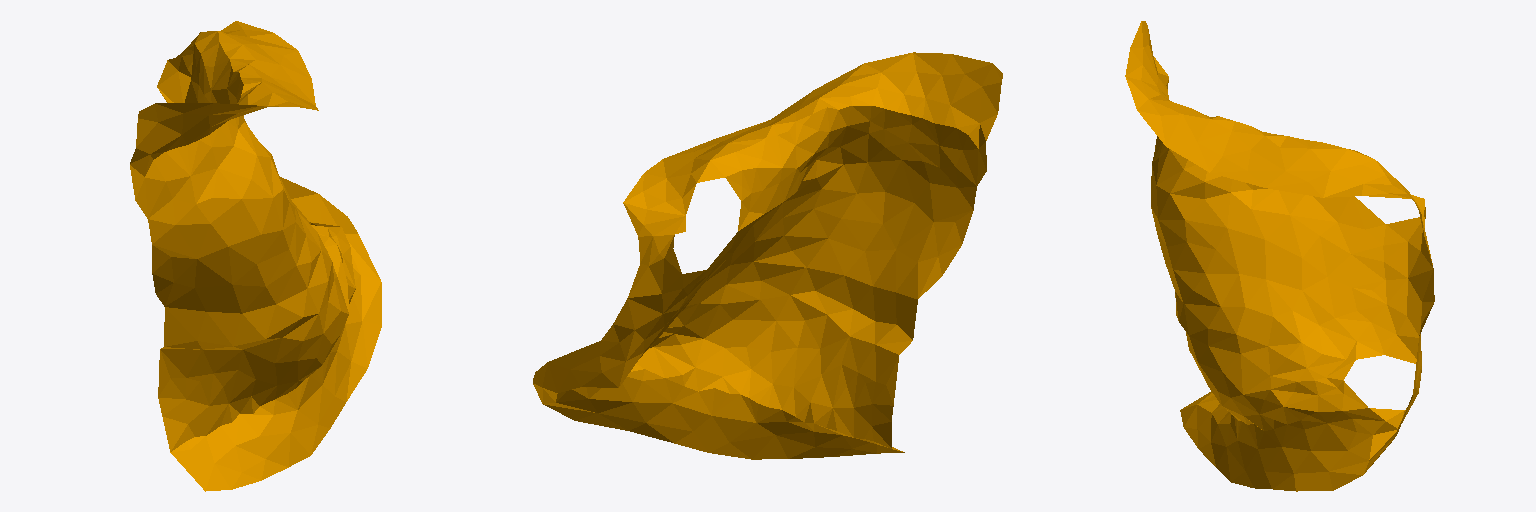
robot.urdf — init:
<?xml version='1.0' encoding='utf-8'?>
<robot name="init">
<link name="link_0"><inertial><mass value="1.0" /><origin rpy="0 0 0" xyz="0.000000 0.000000 0.000000" /><inertia ixx="1.0" ixy="0.0" ixz="0.0" iyy="1.0" iyz="0.0" izz="1.0" /></inertial><visual><origin rpy="0 0 0" xyz="0.000000 0.000000 0.000000" /><geometry><mesh filename="./clothHuman/cloth/2002.obj" /></geometry></visual><collision><origin rpy="0 0 0" xyz="0.000000 0.000000 0.000000" /><geometry><mesh filename="./clothHuman/cloth/2002.obj" /></geometry></collision></link></robot>

--- Facts derived from the render (not from the file) ---
The picture shows the robot from 3 angles, left to right: view 1: azimuth 30°, elevation 25°; view 2: azimuth 150°, elevation 25°; view 3: azimuth 270°, elevation 25°; orthographic projection.
Robot: init — 1 links, 0 joints (none); root link link_0; default pose: all joints at 0.
Visible links, largest first — view 1: link_0; view 2: link_0; view 3: link_0.
Link boxes in pixels (x1,y1,x2,y2): link_0: (130, 21, 381, 491); link_0: (533, 52, 1002, 459); link_0: (1125, 21, 1434, 491).
Size in the robot's own frame: 3.35 by 2.85 by 3.81 metres.
Meshes: 1 distinct files referenced, 1 mesh visuals loaded (1 OBJ).